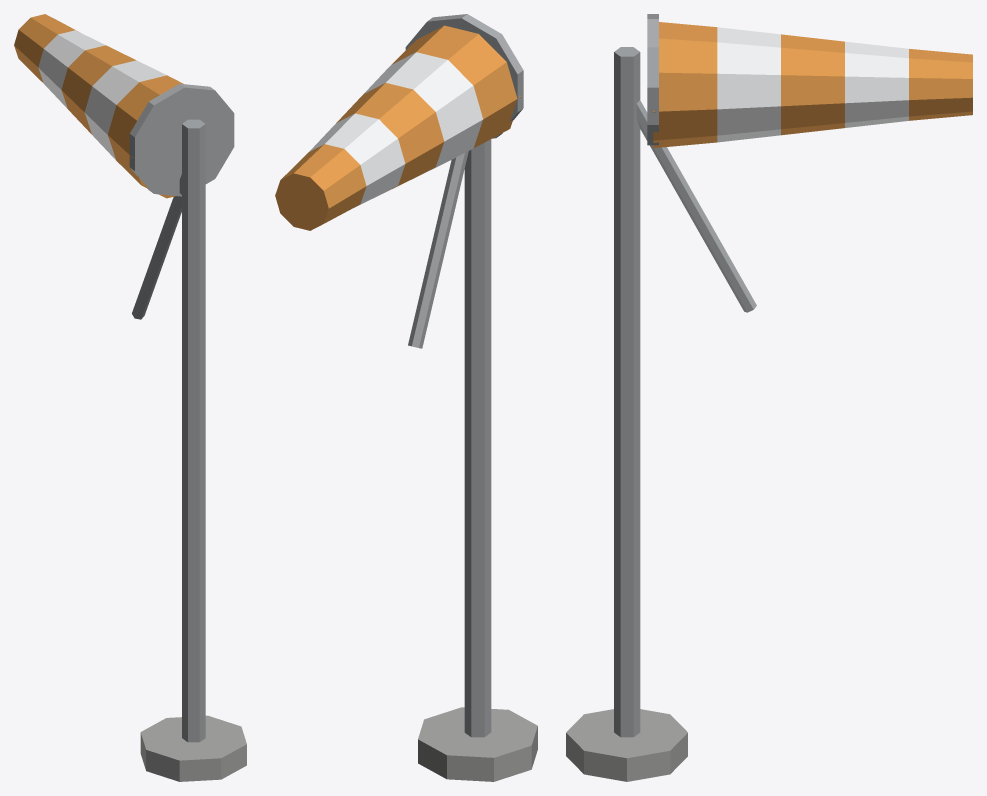
Rendered from windsock.fbx.
3 views of the same model, side by side, from view 1: azimuth 30°, elevation 25°; view 2: azimuth 150°, elevation 25°; view 3: azimuth 270°, elevation 25° (orthographic). The views are drawn at different scales.
Parts seen in each view (by area): view 1: Windsock; view 2: Windsock; view 3: Windsock.
Part boxes in pixels (box(x1,y1,x2,y2)): Windsock: box(14, 14, 246, 781); Windsock: box(275, 14, 537, 781); Windsock: box(566, 14, 972, 781).
Bounding box in the file's own units: 0.88 × 5.6 × 2.8.
